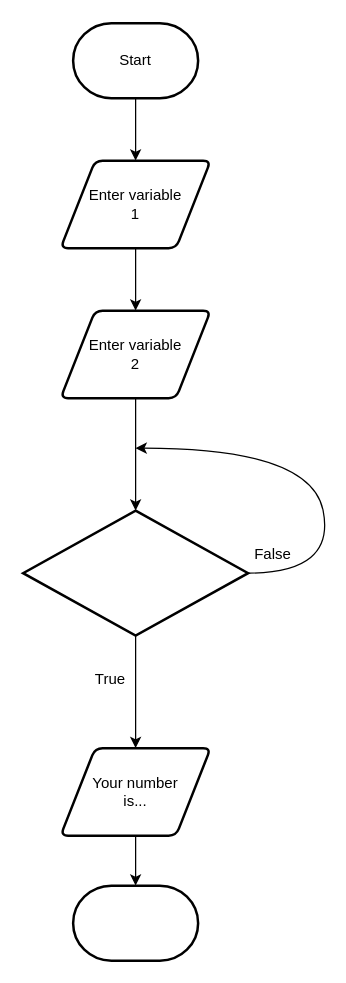
The diagram is 346 pixels wide and 983 high, and some of its shapes have lost their labels. Here are the shapes that lost their labels. From the top down, the box of each, then its label:
(21, 509, 249, 636): While (counter < numberB)
(71, 884, 199, 961): Stop
